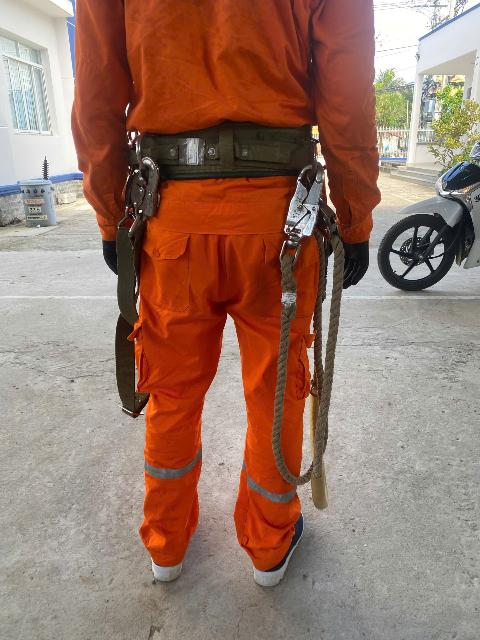gloves: (323, 206, 381, 304), (78, 221, 146, 290)
harness: (113, 117, 314, 192)
shoes: (222, 491, 319, 593), (119, 497, 203, 590)
